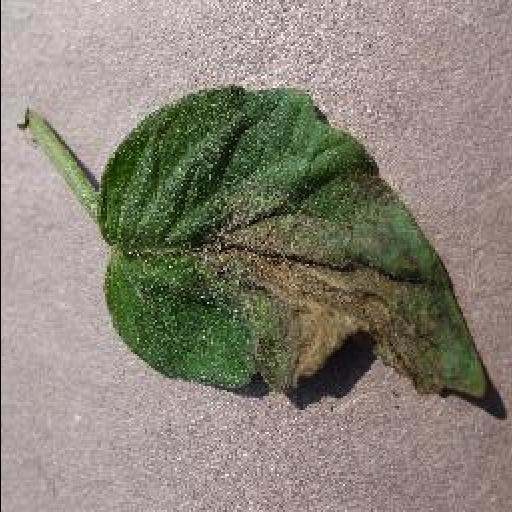disease_tomato: (100, 86, 488, 408)
